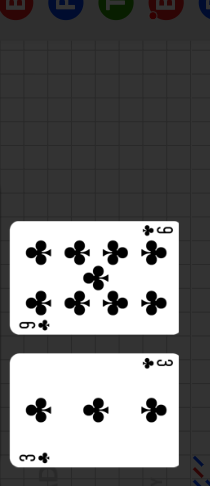3C: (18, 450, 53, 464)
9C: (140, 224, 175, 238)
